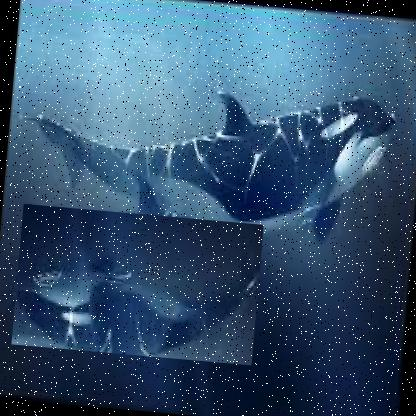killer_whale: (6, 44, 407, 241), (10, 204, 263, 366)
